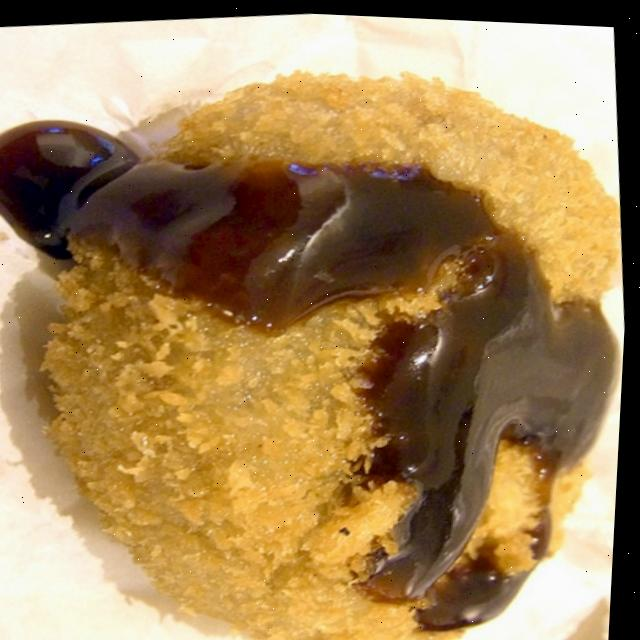炸货点心: (0, 5, 640, 640)
